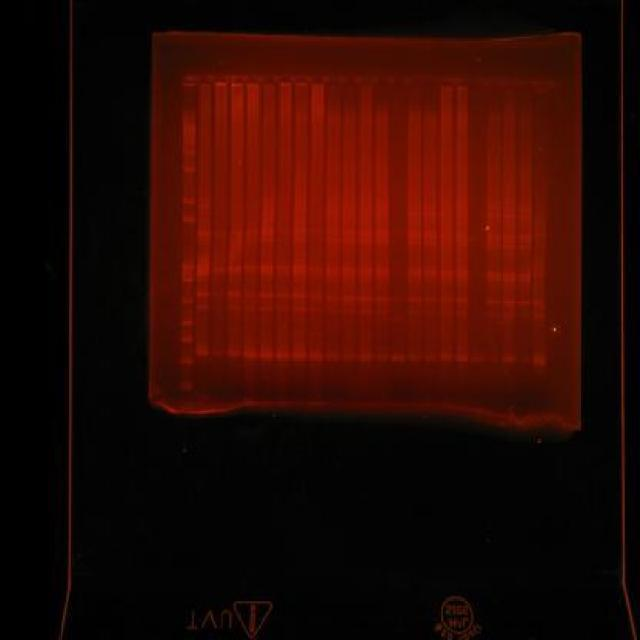B: (258, 348, 274, 361), (290, 350, 308, 361), (531, 354, 547, 366), (308, 351, 324, 362), (275, 350, 291, 361), (374, 352, 390, 362), (501, 354, 516, 364), (196, 348, 210, 358), (227, 348, 241, 358), (258, 292, 274, 300), (391, 354, 407, 362), (324, 352, 340, 360), (341, 352, 357, 360), (358, 352, 373, 360), (358, 294, 373, 302), (407, 267, 422, 275), (532, 311, 545, 320), (196, 304, 210, 312), (196, 290, 210, 298), (243, 304, 257, 312), (259, 304, 273, 312), (227, 327, 241, 335), (228, 304, 242, 312), (228, 292, 242, 300), (210, 290, 224, 298), (210, 349, 224, 357), (518, 356, 532, 364), (292, 329, 306, 337), (292, 305, 306, 313), (408, 353, 422, 361), (423, 354, 437, 362), (440, 353, 454, 361), (454, 354, 468, 362), (502, 312, 516, 320), (243, 352, 257, 359), (259, 270, 275, 276), (291, 292, 307, 298), (291, 264, 307, 270), (275, 293, 291, 299), (275, 307, 291, 313), (390, 296, 406, 302), (324, 308, 340, 314), (501, 206, 517, 212), (406, 274, 422, 280), (324, 208, 340, 214), (532, 321, 545, 328), (374, 296, 389, 302), (407, 297, 422, 303), (391, 316, 406, 322), (324, 294, 339, 300), (501, 234, 516, 240), (196, 267, 210, 273), (198, 203, 212, 209), (197, 218, 211, 224), (197, 197, 211, 203), (243, 292, 257, 298), (260, 264, 274, 270), (243, 264, 257, 270), (243, 270, 257, 276), (228, 270, 242, 276), (230, 234, 244, 240), (213, 230, 227, 236), (213, 240, 227, 246), (212, 270, 226, 276), (518, 208, 532, 214), (518, 234, 532, 240), (518, 244, 532, 250), (517, 272, 531, 278), (308, 331, 322, 337), (308, 307, 322, 313), (309, 294, 323, 300), (308, 270, 322, 276), (292, 270, 306, 276), (293, 236, 307, 242), (293, 201, 307, 207), (470, 356, 484, 362), (358, 308, 372, 314), (374, 310, 388, 316), (423, 296, 437, 302), (439, 296, 453, 302), (439, 311, 453, 317), (454, 297, 468, 303), (408, 310, 422, 316), (424, 310, 438, 316), (342, 308, 356, 314), (342, 294, 356, 300), (486, 298, 500, 304), (502, 298, 516, 304), (502, 277, 516, 283), (486, 272, 500, 278), (486, 276, 500, 282), (502, 244, 516, 250), (502, 238, 516, 244), (486, 238, 500, 244), (486, 232, 500, 238), (486, 212, 500, 218), (454, 210, 468, 216), (423, 230, 437, 236), (423, 240, 437, 246), (423, 268, 437, 274), (326, 266, 340, 272), (326, 271, 340, 277), (326, 277, 340, 283), (342, 272, 356, 278), (374, 268, 388, 274), (358, 267, 372, 273), (439, 270, 453, 276), (439, 274, 453, 280), (454, 270, 468, 276), (407, 230, 421, 236), (326, 238, 340, 244), (326, 228, 340, 234), (358, 238, 372, 244), (374, 240, 388, 246), (374, 234, 388, 240), (423, 204, 437, 210), (376, 210, 390, 216), (342, 208, 356, 214), (342, 202, 356, 208), (326, 202, 340, 208), (439, 236, 453, 242), (342, 238, 356, 244), (407, 211, 421, 217), (374, 273, 390, 278), (245, 238, 258, 244), (532, 300, 545, 306), (456, 310, 469, 316), (456, 236, 469, 242), (358, 230, 373, 235), (534, 232, 546, 238), (518, 300, 530, 306), (518, 313, 530, 319), (360, 208, 372, 214), (196, 273, 210, 278), (197, 236, 211, 241), (260, 233, 274, 238), (262, 210, 276, 215), (228, 265, 242, 270), (213, 210, 227, 215), (213, 235, 227, 240), (532, 273, 546, 278), (518, 239, 532, 244), (308, 266, 322, 271), (292, 232, 306, 237), (276, 269, 290, 274), (276, 265, 290, 270), (502, 273, 516, 278), (486, 243, 500, 248), (486, 206, 500, 211), (423, 235, 437, 240), (358, 273, 372, 278), (456, 275, 470, 280), (407, 240, 421, 245), (407, 235, 421, 240), (326, 233, 340, 238), (374, 229, 388, 234), (423, 212, 437, 217), (358, 202, 372, 207), (439, 232, 453, 237), (342, 229, 356, 234), (407, 205, 421, 210), (198, 210, 211, 215), (230, 210, 243, 215), (532, 305, 545, 310), (455, 242, 468, 247), (455, 232, 468, 237), (518, 222, 531, 227), (341, 268, 357, 272), (230, 240, 242, 245), (198, 232, 212, 236), (197, 242, 211, 246), (260, 238, 274, 242), (244, 234, 258, 238), (262, 204, 276, 208), (532, 284, 546, 288), (518, 214, 532, 218), (308, 228, 322, 232), (293, 228, 307, 232), (293, 208, 307, 212), (277, 228, 291, 232), (502, 214, 516, 218), (439, 212, 453, 216), (424, 274, 438, 278), (196, 278, 210, 282), (358, 234, 372, 238), (374, 204, 388, 208), (439, 242, 453, 246), (423, 218, 437, 222), (342, 234, 356, 238), (230, 204, 243, 208), (532, 278, 545, 282), (518, 278, 530, 282), (246, 231, 259, 234), (260, 230, 274, 232), (230, 232, 244, 234), (212, 268, 226, 270)
L: (172, 68, 572, 99)
M: (176, 102, 197, 396)
P: (178, 382, 193, 392), (179, 356, 193, 366), (179, 319, 193, 327), (182, 215, 196, 223), (182, 165, 196, 173), (181, 197, 194, 205), (180, 336, 192, 344), (180, 297, 192, 305), (182, 150, 196, 156), (181, 277, 194, 283), (181, 264, 194, 270), (182, 140, 195, 146), (182, 136, 196, 139)
Pc: (548, 78, 566, 91), (516, 82, 532, 96), (262, 74, 276, 90), (310, 73, 324, 89), (181, 74, 196, 88), (532, 79, 548, 92), (247, 74, 260, 90), (470, 79, 486, 92), (198, 74, 212, 88), (214, 74, 228, 88), (230, 74, 244, 88), (278, 73, 292, 87), (294, 74, 308, 88), (439, 76, 453, 90), (424, 76, 438, 90), (328, 73, 340, 89), (456, 77, 469, 91), (376, 74, 389, 88), (360, 76, 372, 90), (344, 74, 356, 88), (501, 82, 516, 93), (487, 83, 501, 94), (408, 78, 421, 89), (392, 78, 405, 89)
